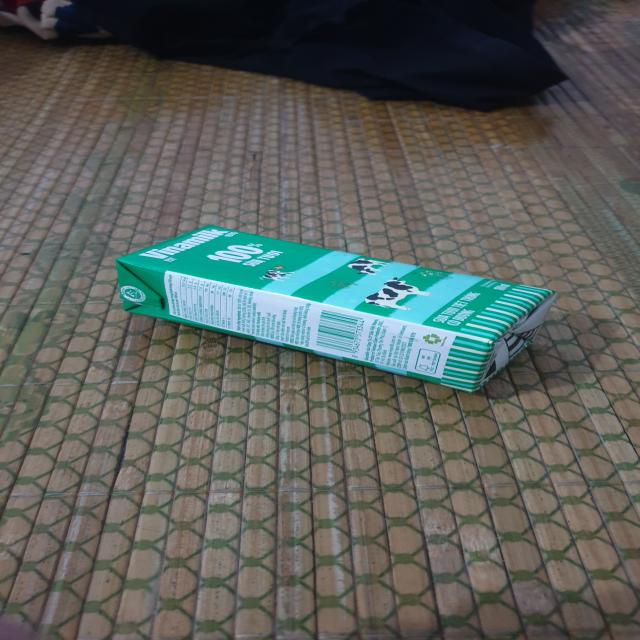Vina: (114, 228, 554, 396)
